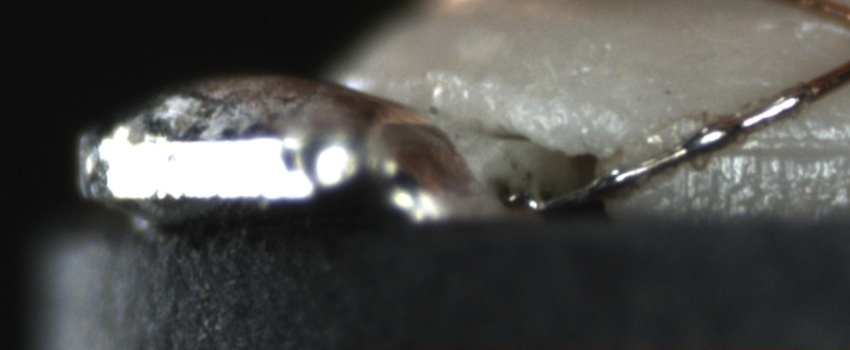DL: (729, 118, 848, 174)
TS: (524, 84, 811, 211)
TTCW: (524, 63, 849, 212)
